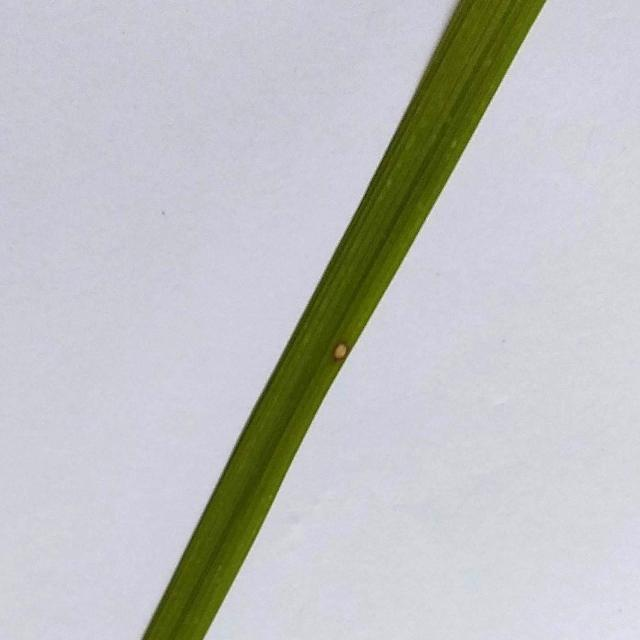Leaf blast: (130, 0, 549, 637)
